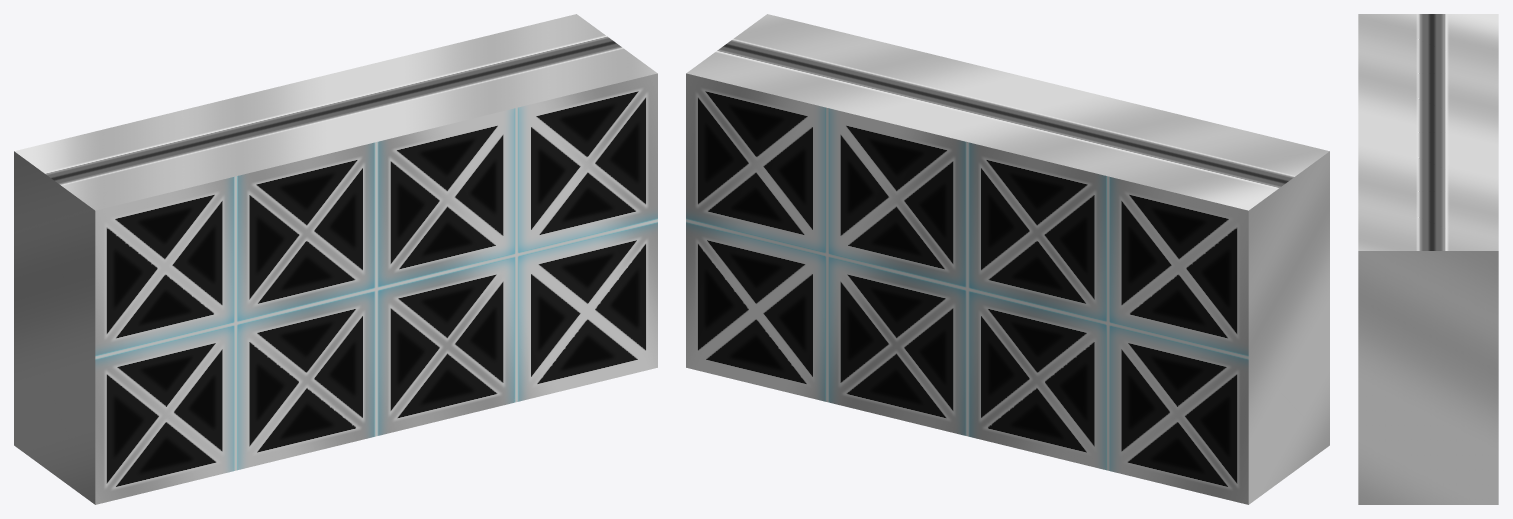
3 views of the same model, side by side, from view 1: azimuth 30°, elevation 25°; view 2: azimuth 150°, elevation 25°; view 3: azimuth 270°, elevation 25° (orthographic). The views are drawn at different scales.
Parts seen in each view (by area): view 1: pCube77; view 2: pCube77; view 3: pCube77.
Boxes of the visible parts, x1,y1,x2,y2 form: pCube77: (14, 14, 657, 504); pCube77: (686, 14, 1329, 504); pCube77: (1358, 14, 1498, 504).
Bounding box in the file's own units: 4 × 2 × 1.
1 material, 1 textured.
